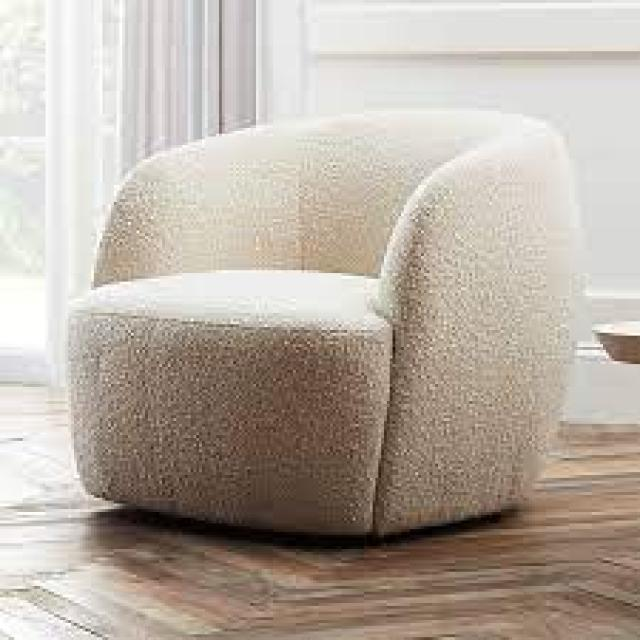chair: (59, 55, 604, 602)
